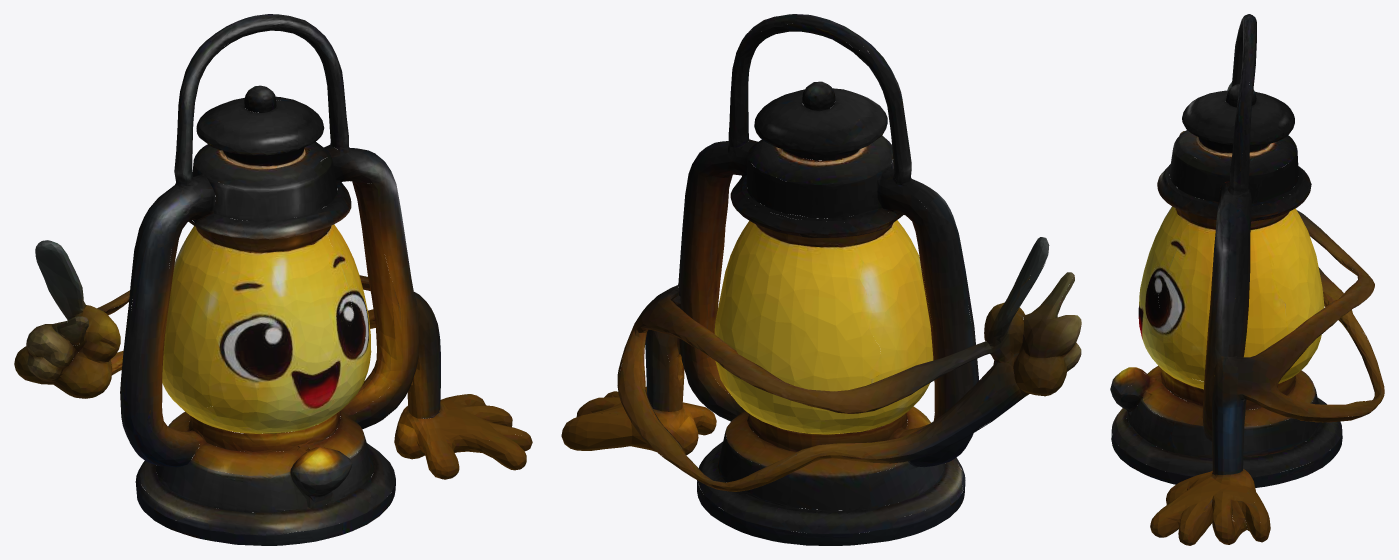
Rendered from char-Lumio.glb.
3 views of the same model, side by side, from view 1: azimuth 30°, elevation 25°; view 2: azimuth 150°, elevation 25°; view 3: azimuth 270°, elevation 25° (orthographic). The views are drawn at different scales.
Visible parts, largest first — view 1: geometry_0.010; view 2: geometry_0.010; view 3: geometry_0.010.
Part boxes in pixels (bbox=[...]): geometry_0.010: bbox=[14, 14, 532, 545]; geometry_0.010: bbox=[561, 14, 1081, 545]; geometry_0.010: bbox=[1110, 14, 1384, 545].
Size of the model in its own units: 0.9985 by 0.9308 by 0.5503.
Materials: 1 (1 with a texture image).
